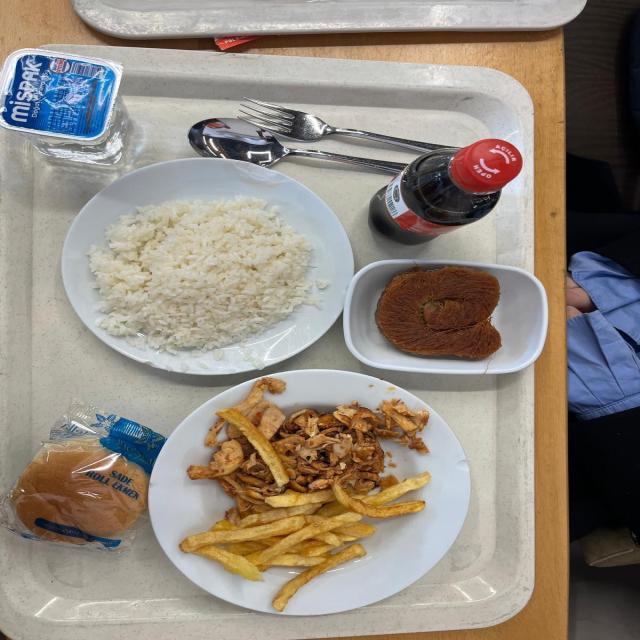ana_yemek: (147, 374, 465, 620), (62, 160, 352, 360)
yan_yemek: (343, 261, 543, 370)
